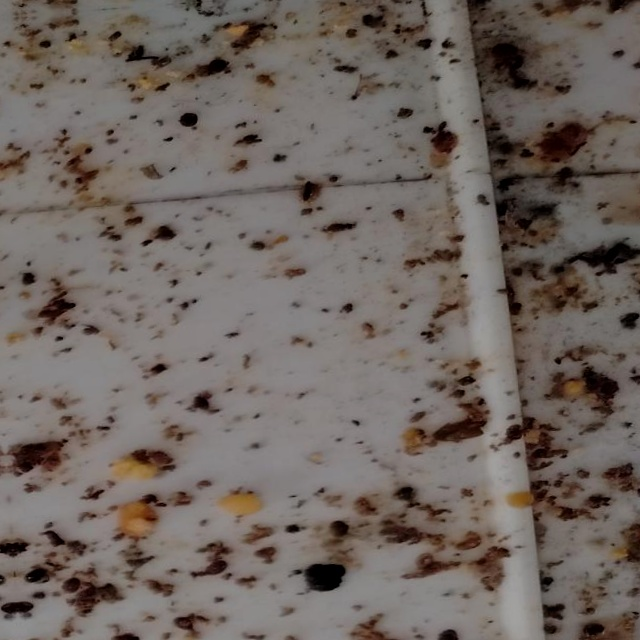varroa: (197, 558, 229, 580), (324, 518, 351, 540), (204, 56, 229, 77), (168, 615, 195, 634), (173, 112, 197, 132), (55, 577, 79, 597), (20, 568, 47, 585), (17, 600, 31, 615)
